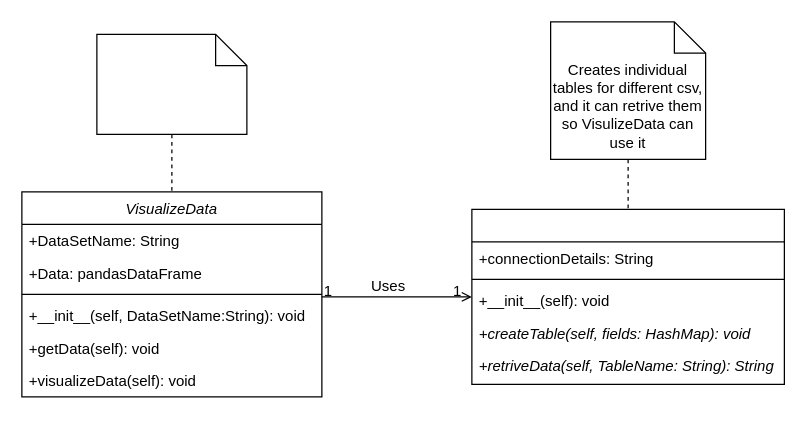
Image size: 806x423. Some labels were removed from this diagram. Here are the shapes that lost their labels. From the top down, the box of each, then its label:
(96, 33, 247, 134): Button pressed on Website makes the Backend call this
(471, 208, 784, 384): Database
